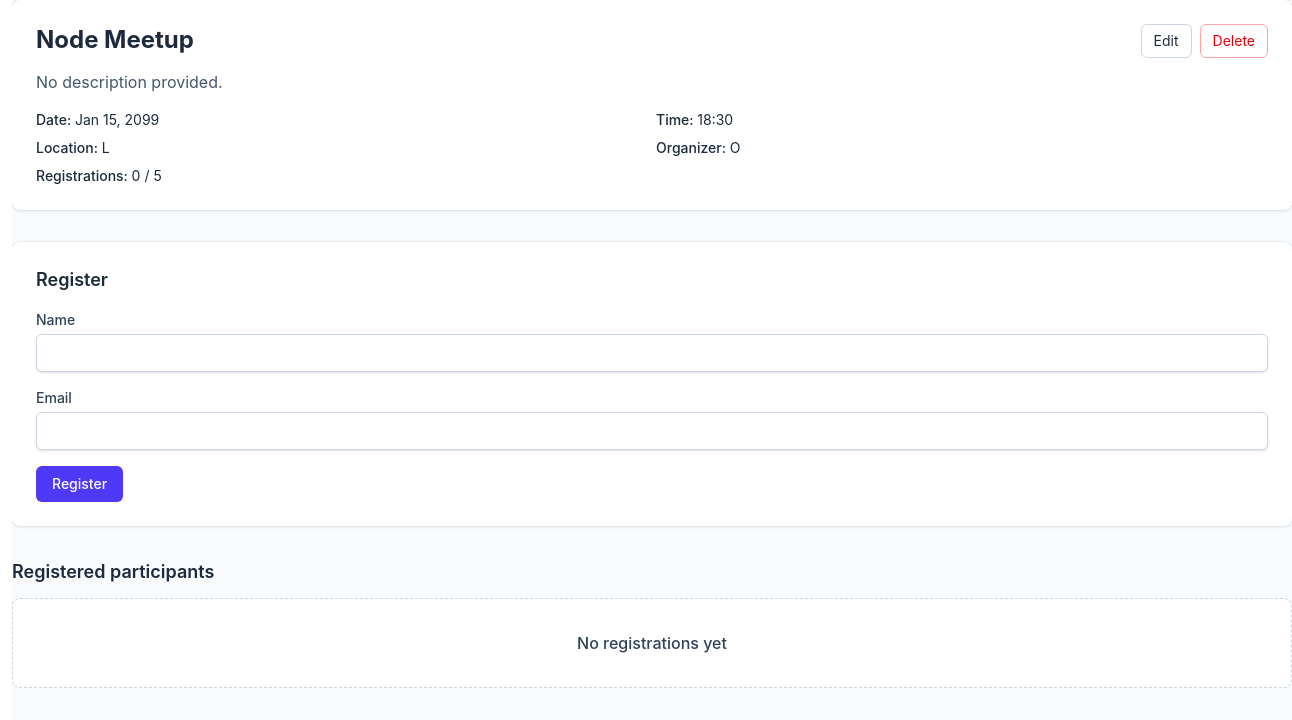
Test: EventDetails › keeps the success message after registering (page refreshes in the background)
Type "Asha" into the field labelled "Name". click: (652, 353)
box: top-left (36, 334), bottom-right (1268, 372)
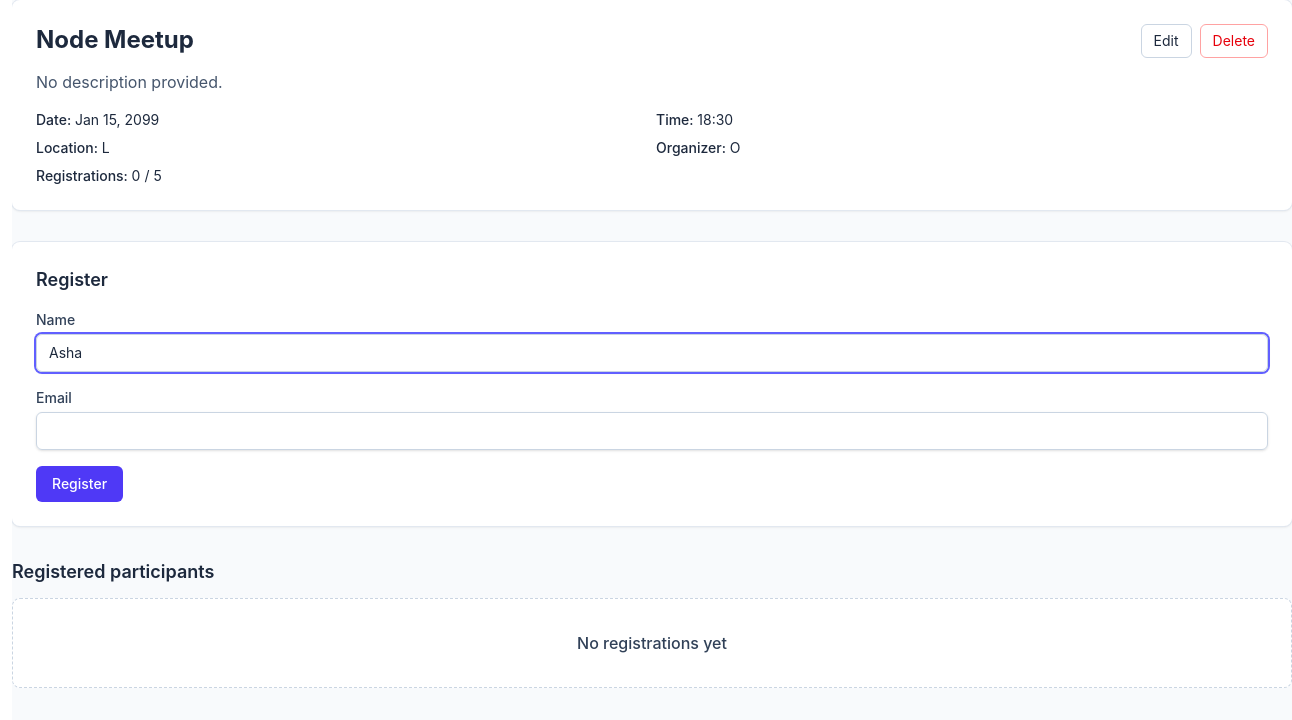
Type "asha@example.com" into the field labelled "Email". click: (652, 431)
box: top-left (36, 412), bottom-right (1268, 450)
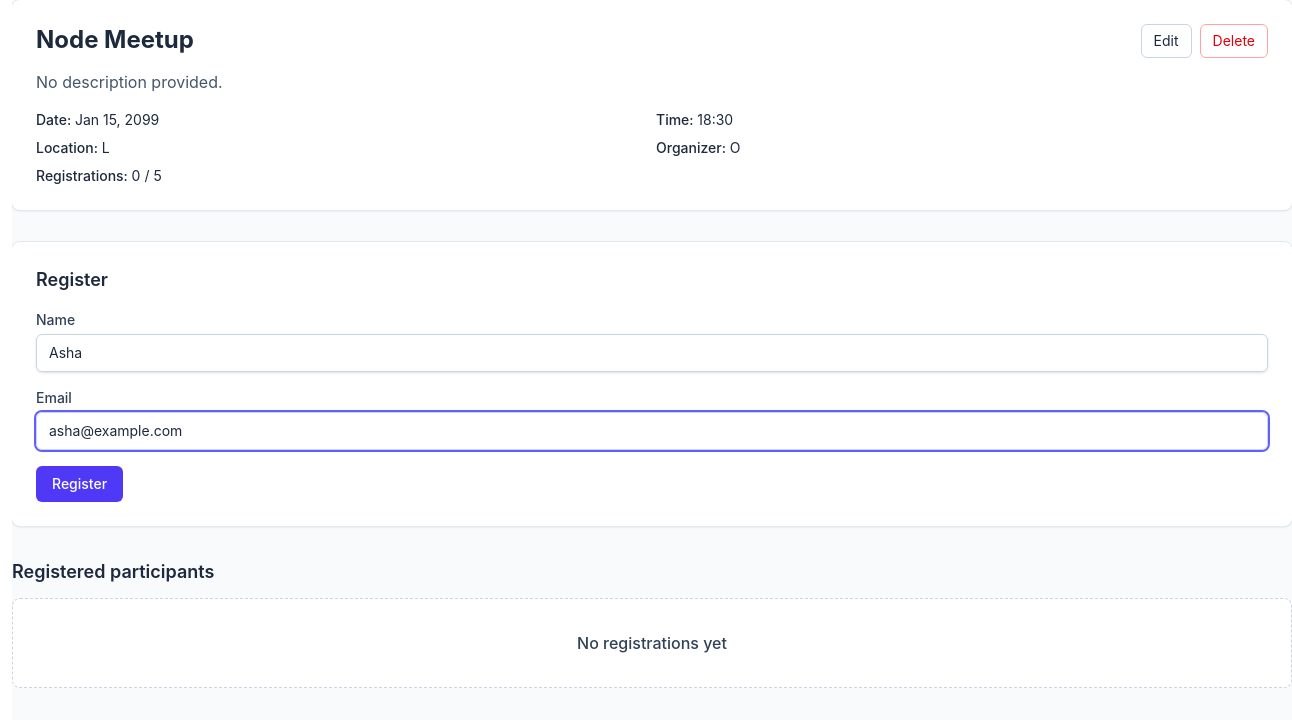
Click the button "Register". click: (80, 484)
box: top-left (36, 466), bottom-right (123, 502)
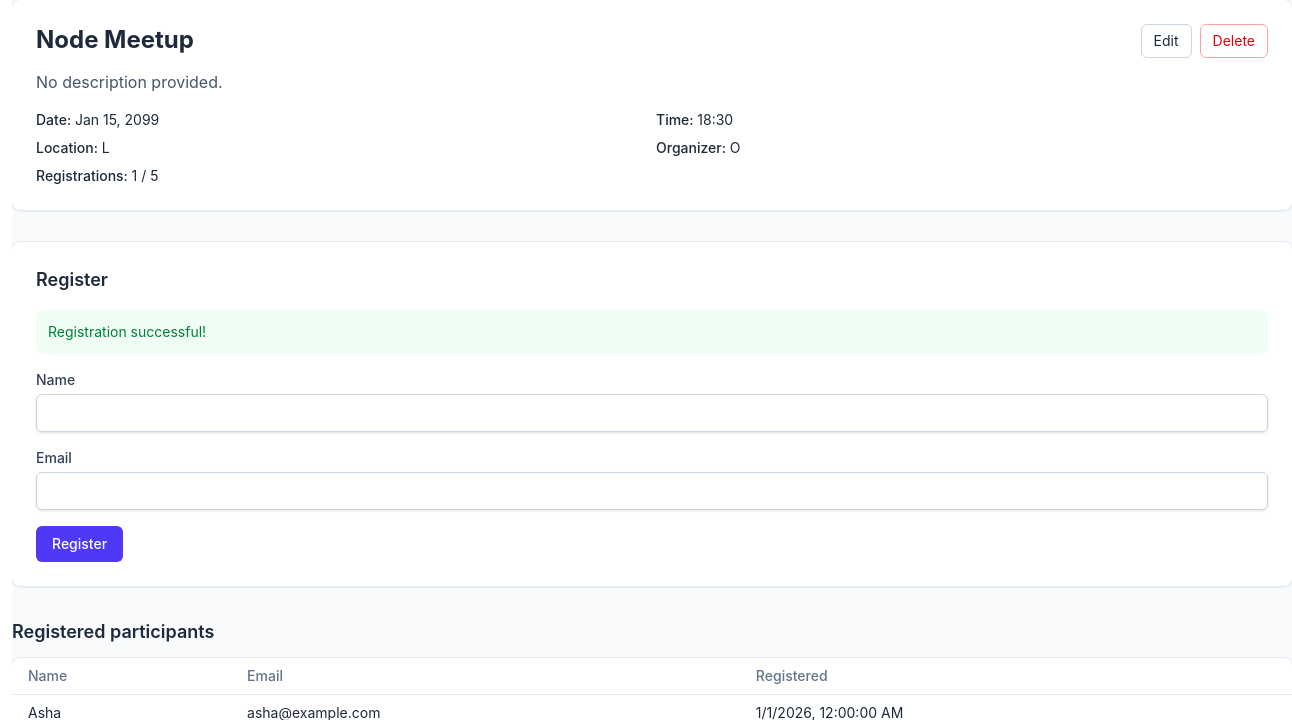
Now the text "Registration successful!" is shown, box top-left (36, 310), bottom-right (1268, 354)
